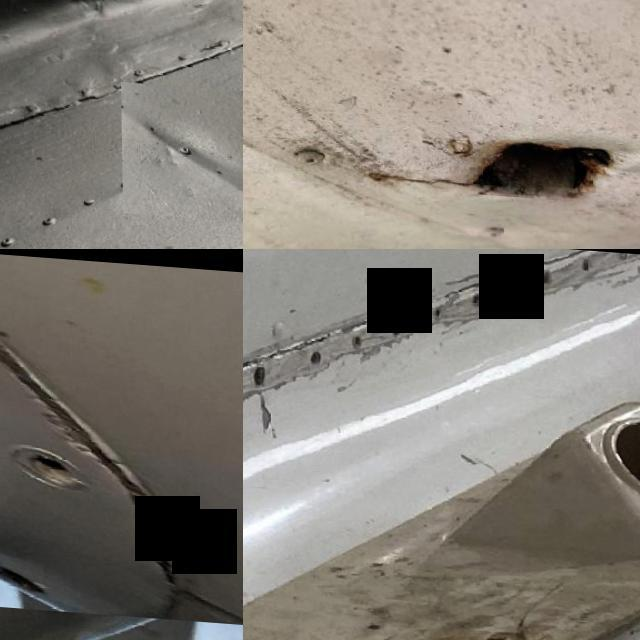Crack: (0, 249, 243, 620), (352, 97, 640, 223), (243, 289, 354, 412), (429, 249, 573, 294)
Dent: (120, 79, 243, 218)
Missing_Fastener: (120, 441, 210, 504)
